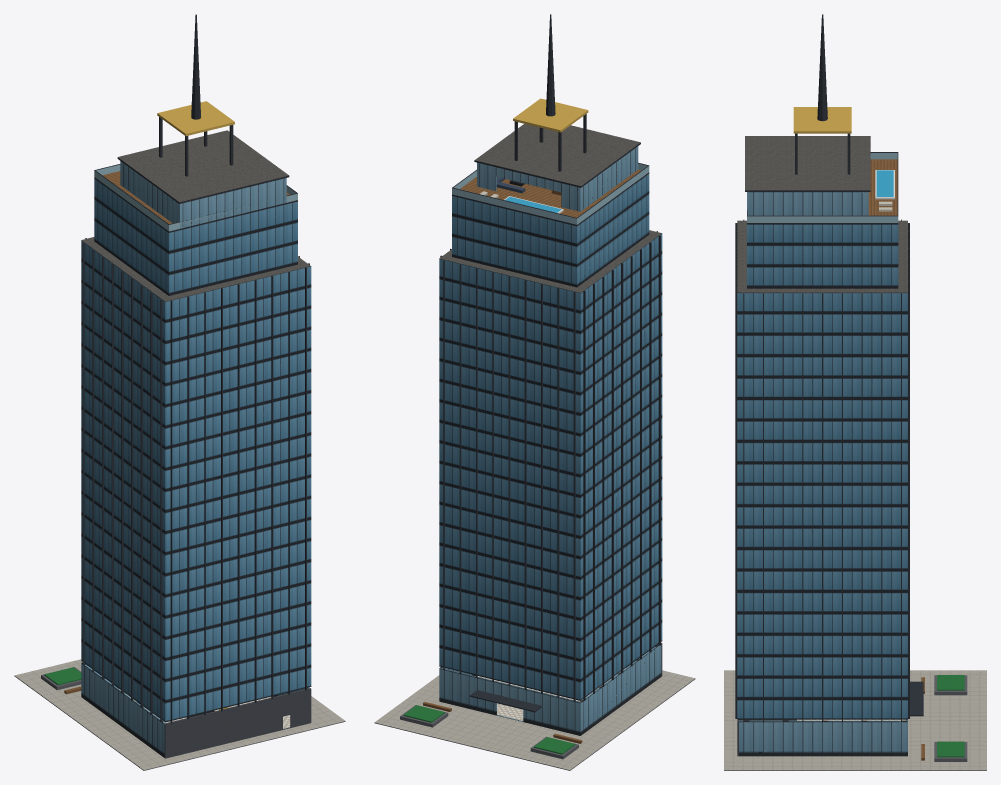
Rendered from kristala_turo.glb.
3 views of the same model, side by side, from view 1: azimuth 30°, elevation 25°; view 2: azimuth 150°, elevation 25°; view 3: azimuth 270°, elevation 25° (orthographic). The views are drawn at different scales.
Parts seen in each view (by area): view 1: kristala_turo; view 2: kristala_turo; view 3: kristala_turo.
Part boxes in pixels (<box>): kristala_turo: <box>14,14,345,770</box>; kristala_turo: <box>374,14,695,770</box>; kristala_turo: <box>724,14,986,770</box>.
Bounding box in the file's own units: 36 × 119 × 40.
17 materials, 17 textured.
